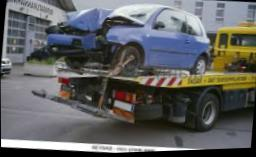Bonnet: (49, 6, 145, 36)
Bumper: (37, 43, 122, 64)
